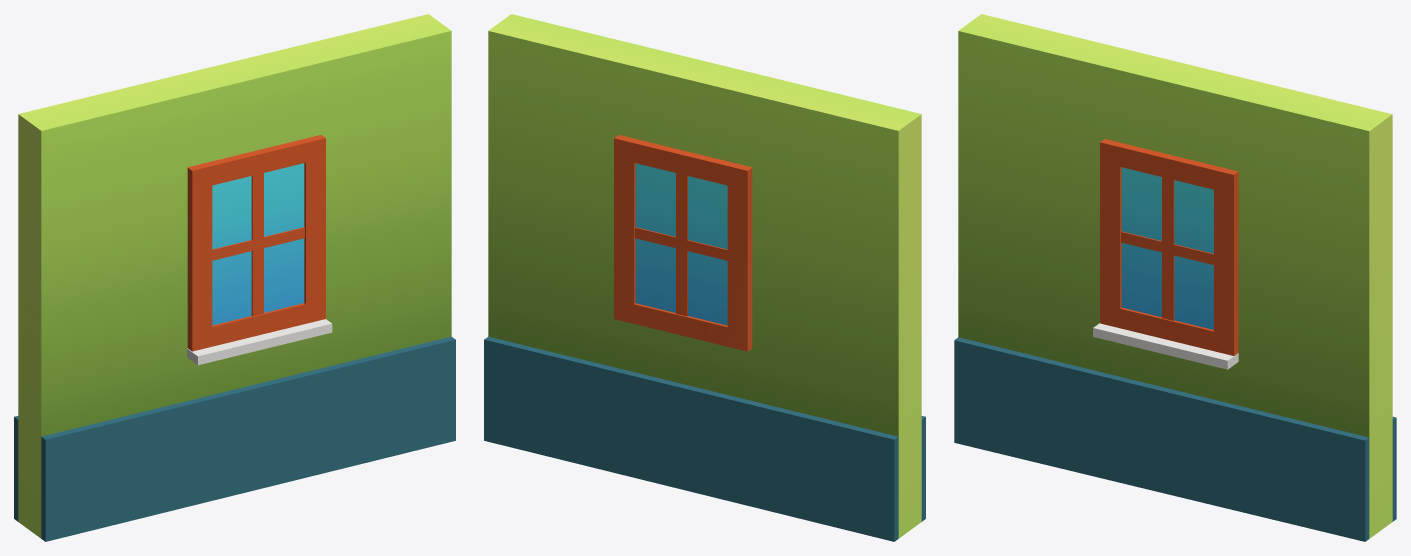
File: M1_Wall_03_3.fbx
3 renders of one model, left to right at view 1: azimuth 30°, elevation 25°; view 2: azimuth 150°, elevation 25°; view 3: azimuth 330°, elevation 25°, orthographic.
Parts seen in each view (by area): view 1: M1_Wall_03_3; view 2: M1_Wall_03_3; view 3: M1_Wall_03_3.
Part boxes in pixels (x1=…): M1_Wall_03_3: x1=14, y1=14, x2=455, y2=541; M1_Wall_03_3: x1=484, y1=14, x2=925, y2=541; M1_Wall_03_3: x1=954, y1=14, x2=1396, y2=541.
Size of the model in its own units: 400 by 380 by 65.72.
